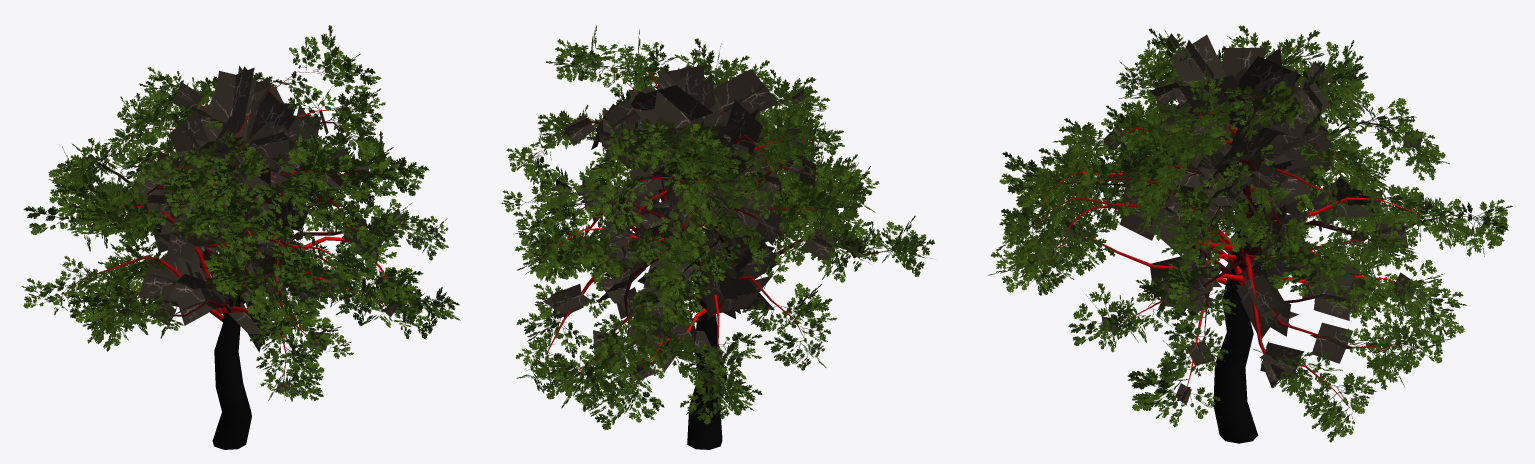
The model's file is maple4 lod0.FBX.
3 renders of one model, left to right at view 1: azimuth 30°, elevation 25°; view 2: azimuth 150°, elevation 25°; view 3: azimuth 270°, elevation 25°, orthographic. The views are drawn at different scales.
Visible parts, largest first — view 1: maple4; view 2: maple4; view 3: maple4.
Part boxes in pixels (x1,y1,x2,y2): maple4: (21, 25, 460, 449); maple4: (501, 25, 934, 449); maple4: (987, 25, 1512, 443).
Bounding box in the file's own units: 135159 × 120394 × 141129.
